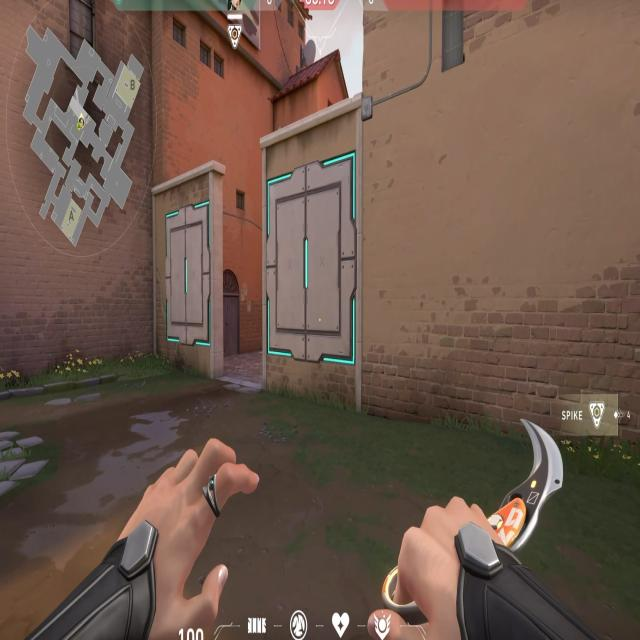Mid_Wall: (257, 89, 365, 415), (145, 151, 232, 385)
